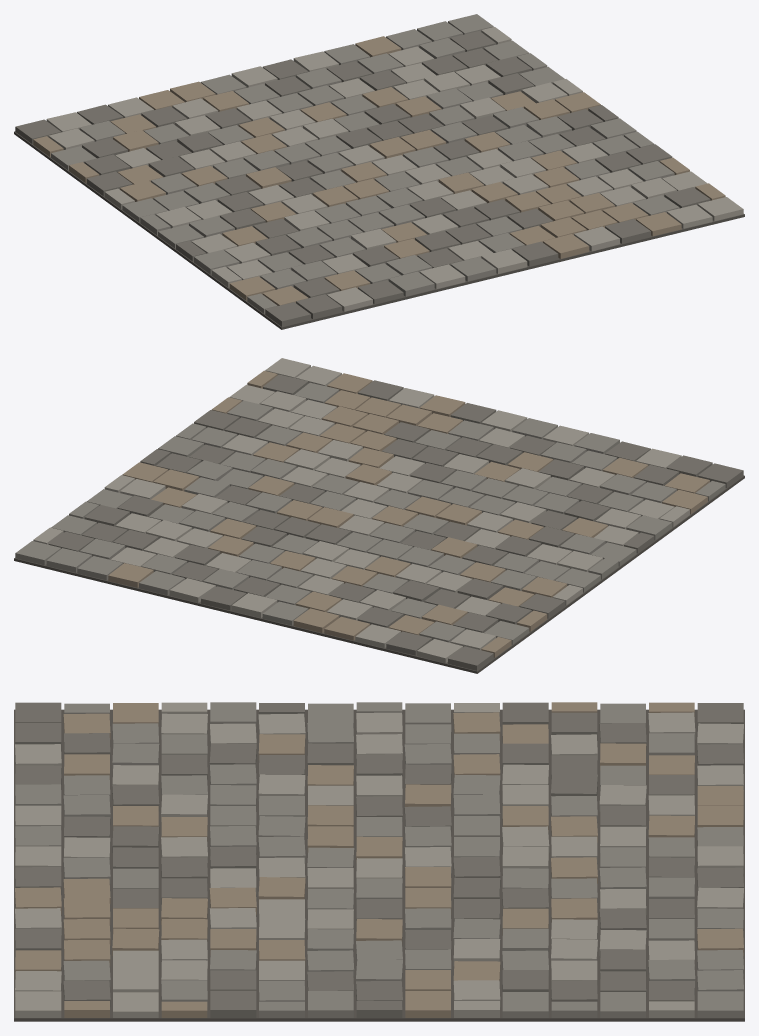
Rendered from suelo-calles-adoquin-calle-cruce.glb.
3 renders of one model, top to bottom at view 1: azimuth 30°, elevation 25°; view 2: azimuth 150°, elevation 25°; view 3: azimuth 270°, elevation 25°, orthographic. The views are drawn at different scales.
Visible parts, largest first — view 1: calle_cruce_AdoquinGris1, calle_cruce_AdoquinGris3, calle_cruce_AdoquinGris2, calle_cruce_AdoquinCalido, calle_cruce_LosaCalle; view 2: calle_cruce_AdoquinGris1, calle_cruce_AdoquinGris3, calle_cruce_AdoquinGris2, calle_cruce_AdoquinCalido, calle_cruce_LosaCalle; view 3: calle_cruce_AdoquinGris1, calle_cruce_AdoquinGris3, calle_cruce_AdoquinGris2, calle_cruce_AdoquinCalido, calle_cruce_LosaCalle.
Part boxes in pixels (left/top/right/bottom): calle_cruce_AdoquinGris1: left=51, top=14, right=679, bottom=313; calle_cruce_AdoquinGris3: left=46, top=27, right=743, bottom=311; calle_cruce_AdoquinGris2: left=15, top=31, right=710, bottom=326; calle_cruce_AdoquinCalido: left=33, top=36, right=725, bottom=305; calle_cruce_LosaCalle: left=14, top=131, right=744, bottom=329; calle_cruce_AdoquinGris1: left=15, top=382, right=725, bottom=644; calle_cruce_AdoquinGris3: left=33, top=358, right=689, bottom=663; calle_cruce_AdoquinGris2: left=48, top=374, right=743, bottom=670; calle_cruce_AdoquinCalido: left=108, top=370, right=709, bottom=657; calle_cruce_LosaCalle: left=14, top=475, right=744, bottom=673; calle_cruce_AdoquinGris1: left=15, top=702, right=743, bottom=1017; calle_cruce_AdoquinGris3: left=15, top=702, right=744, bottom=1017; calle_cruce_AdoquinGris2: left=15, top=702, right=743, bottom=1017; calle_cruce_AdoquinCalido: left=15, top=702, right=743, bottom=1017; calle_cruce_LosaCalle: left=14, top=709, right=744, bottom=1021.
Size of the model in its own units: 6 by 0.1028 by 6.
